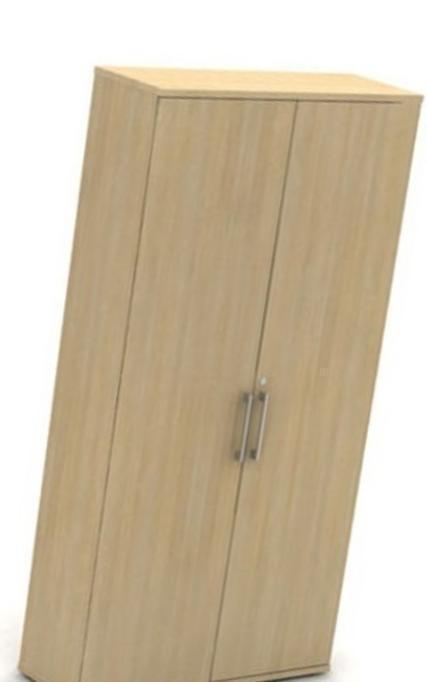Armario: (26, 61, 414, 675)
